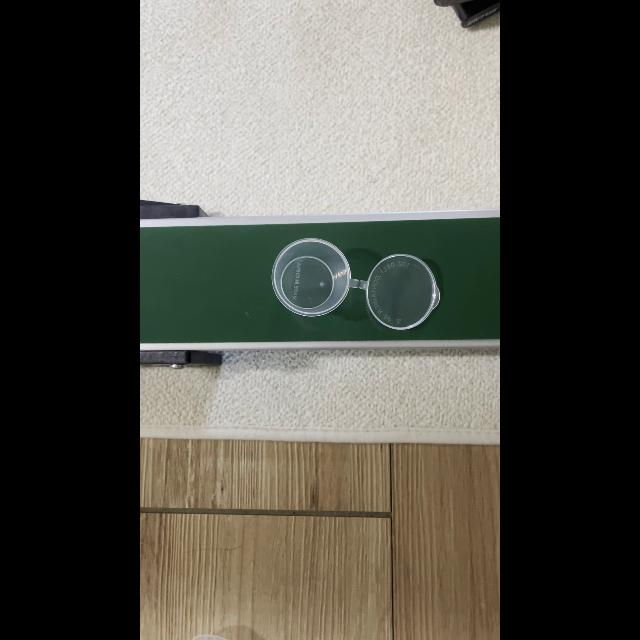clean: (271, 241, 355, 313), (366, 256, 442, 328)
